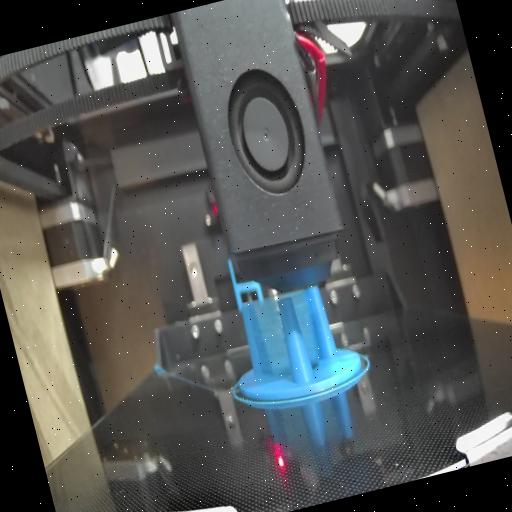stringing: (246, 296, 296, 388), (291, 286, 331, 376)
